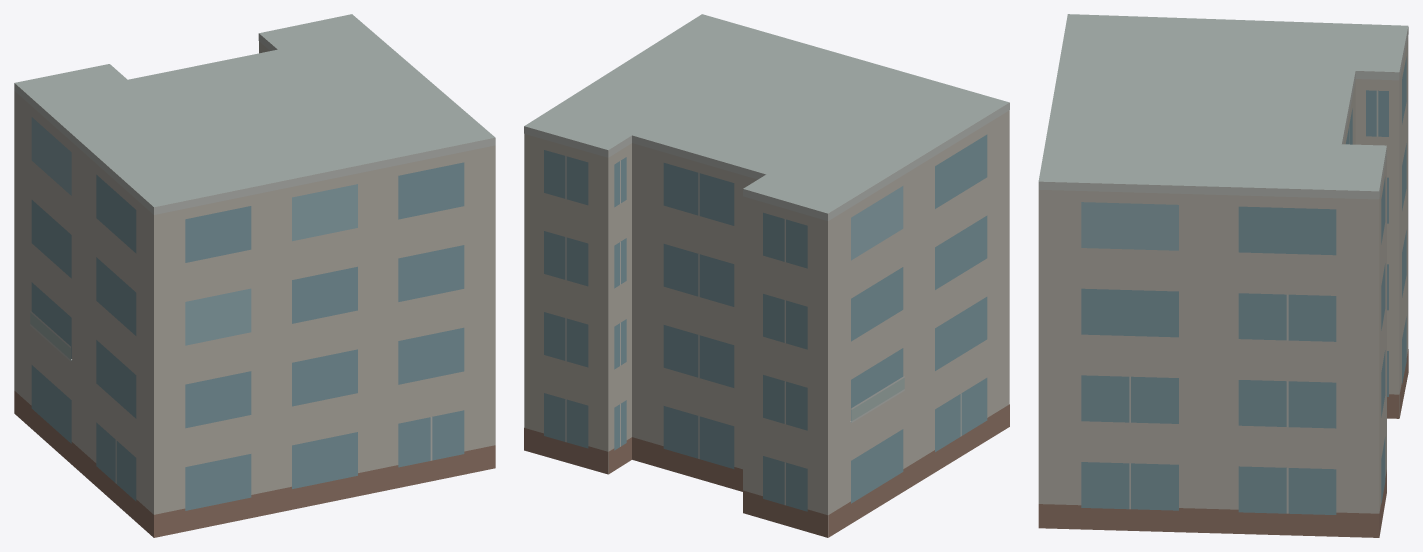
Rendered from survey-upis-32980143.glb.
The picture shows the model from 3 angles, left to right: view 1: azimuth 30°, elevation 25°; view 2: azimuth 150°, elevation 25°; view 3: azimuth 270°, elevation 25°; orthographic projection. The views are drawn at different scales.
Parts seen in each view (by area): view 1: survey-upis-32980143.tmp; view 2: survey-upis-32980143.tmp; view 3: survey-upis-32980143.tmp.
Part boxes in pixels (<box>): survey-upis-32980143.tmp: <box>14,14,495,537</box>; survey-upis-32980143.tmp: <box>524,14,1009,537</box>; survey-upis-32980143.tmp: <box>1038,14,1408,537</box>.
Size of the model in its own units: 11.42 by 10.4 by 10.07.
